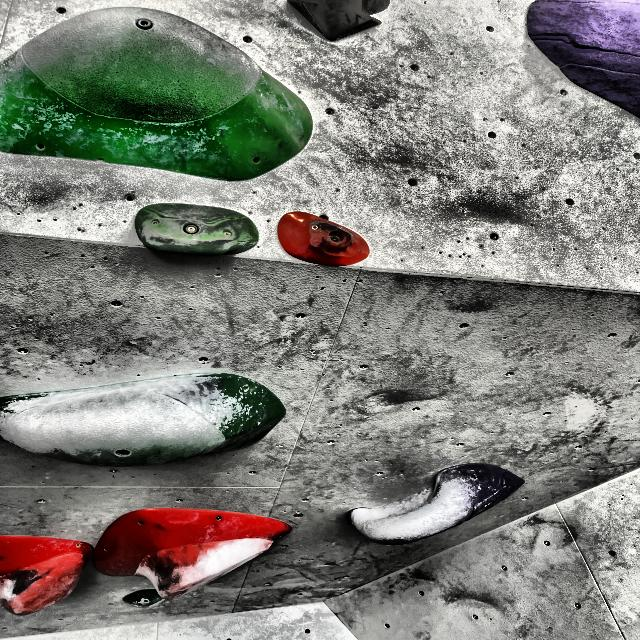hold: (0, 6, 326, 182), (0, 362, 290, 467), (95, 506, 302, 606), (344, 457, 533, 551), (129, 199, 262, 268), (0, 532, 91, 616), (275, 210, 377, 274)
